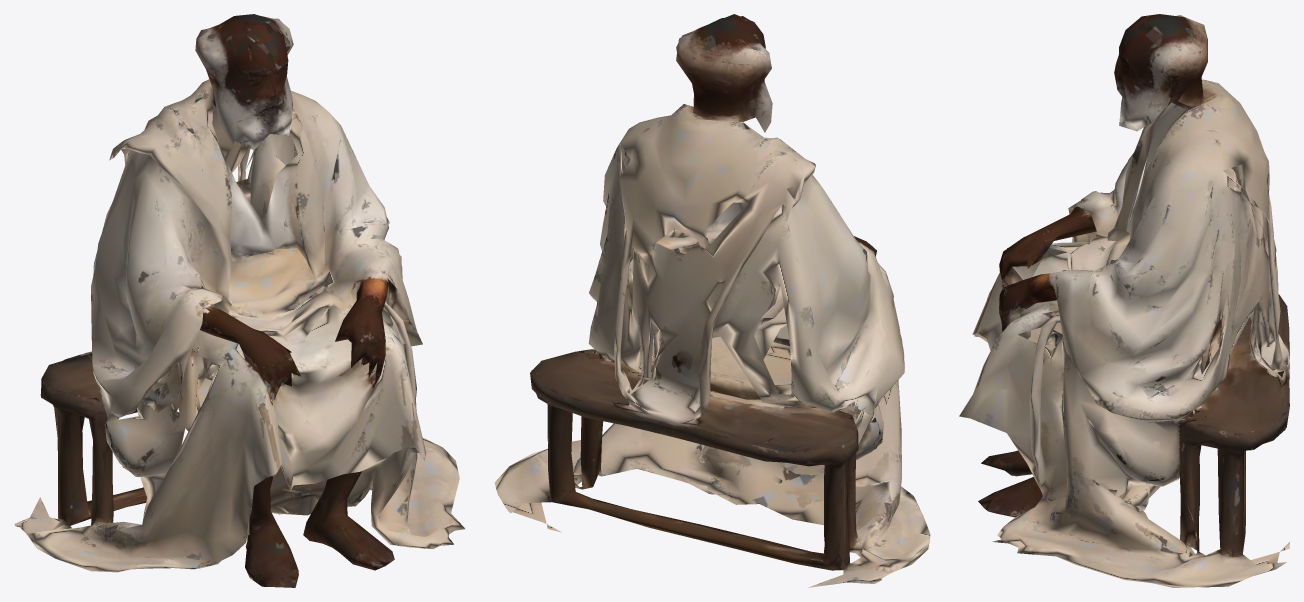
The model's file is elder.glb.
3 renders of one model, left to right at view 1: azimuth 30°, elevation 25°; view 2: azimuth 150°, elevation 25°; view 3: azimuth 270°, elevation 25°, orthographic. The views are drawn at different scales.
Visible parts, largest first — view 1: geometry_0; view 2: geometry_0; view 3: geometry_0.
Part boxes in pixels (x1,y1,x2,y2): geometry_0: (14,14,464,587); geometry_0: (494,14,930,587); geometry_0: (959,14,1289,587).
Size of the model in its own units: 0.8561 by 0.9971 by 0.6274.
1 material, 1 textured.
